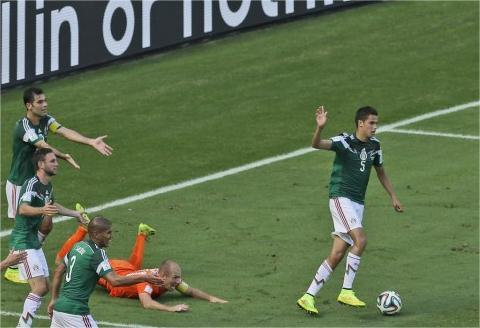down: (102, 254, 231, 312)
up: (297, 98, 405, 315), (10, 146, 61, 328), (39, 214, 114, 328), (5, 85, 50, 231)
